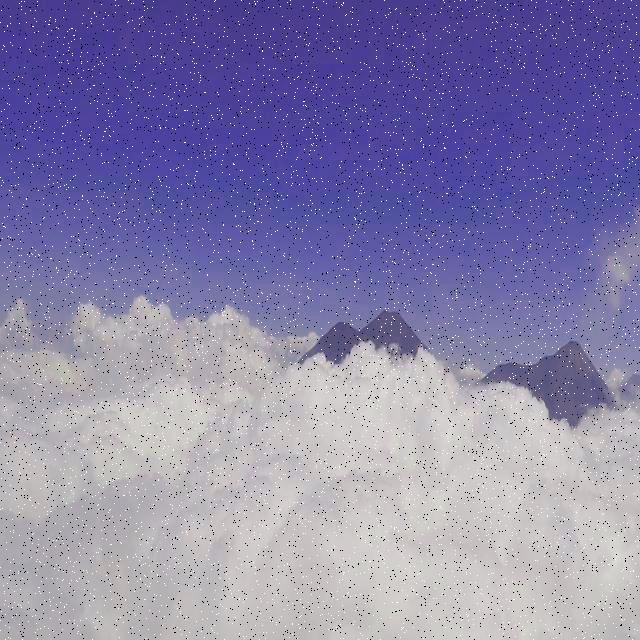Summit: (533, 337, 598, 372)
